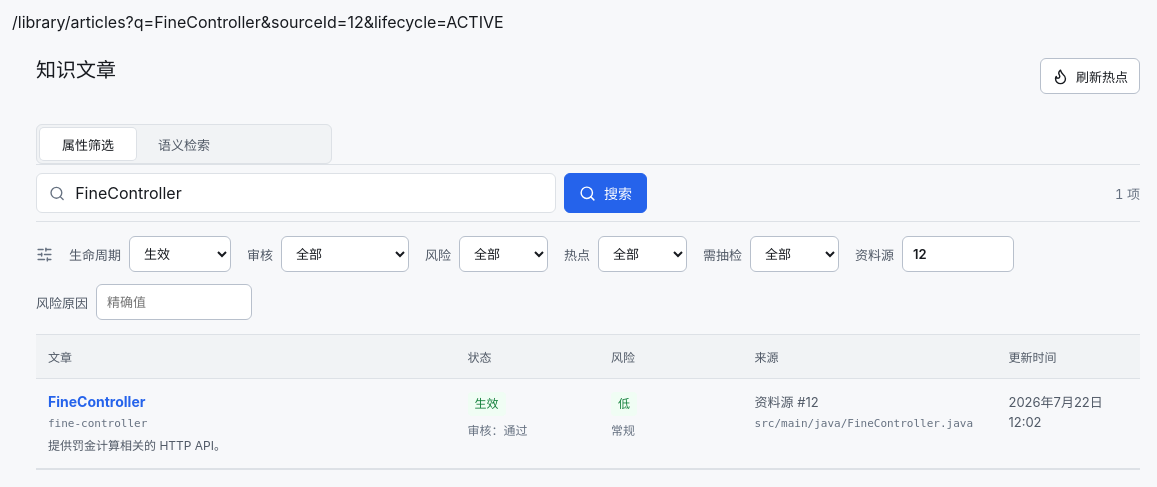
Scenario: article list page › restores server filters from the URL and keeps them when opening a detail
Expected: the text "1 项" is shown, [1115,184,1140,202]
Expected: the text "src/main/java/FineController.java" is shown, [754,415,984,432]
Select "高" in the dropdown labelled "风险": (504, 254) [459,236,548,272]
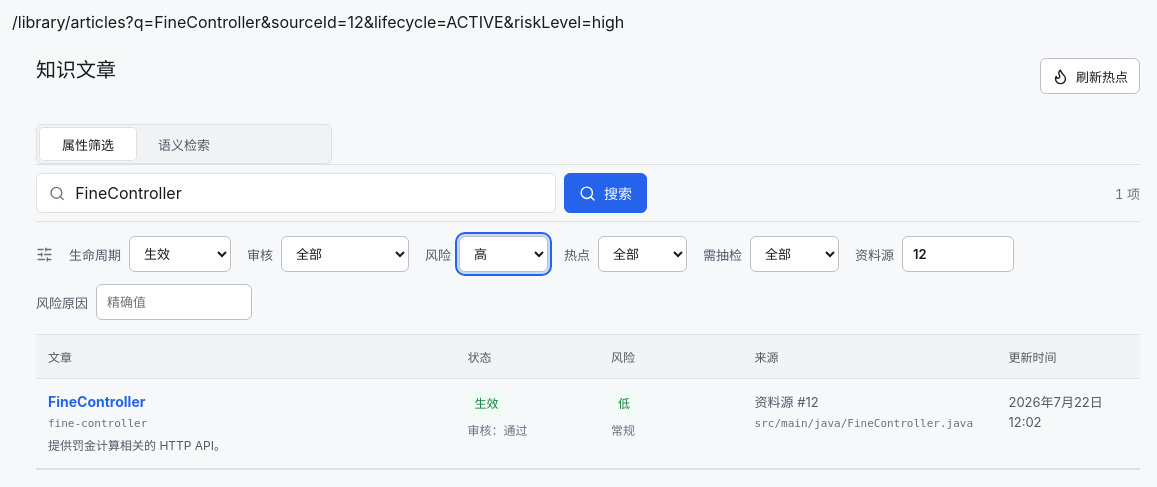
Now the text named "location" shows "riskLevel=high", box [126,12,624,32]
